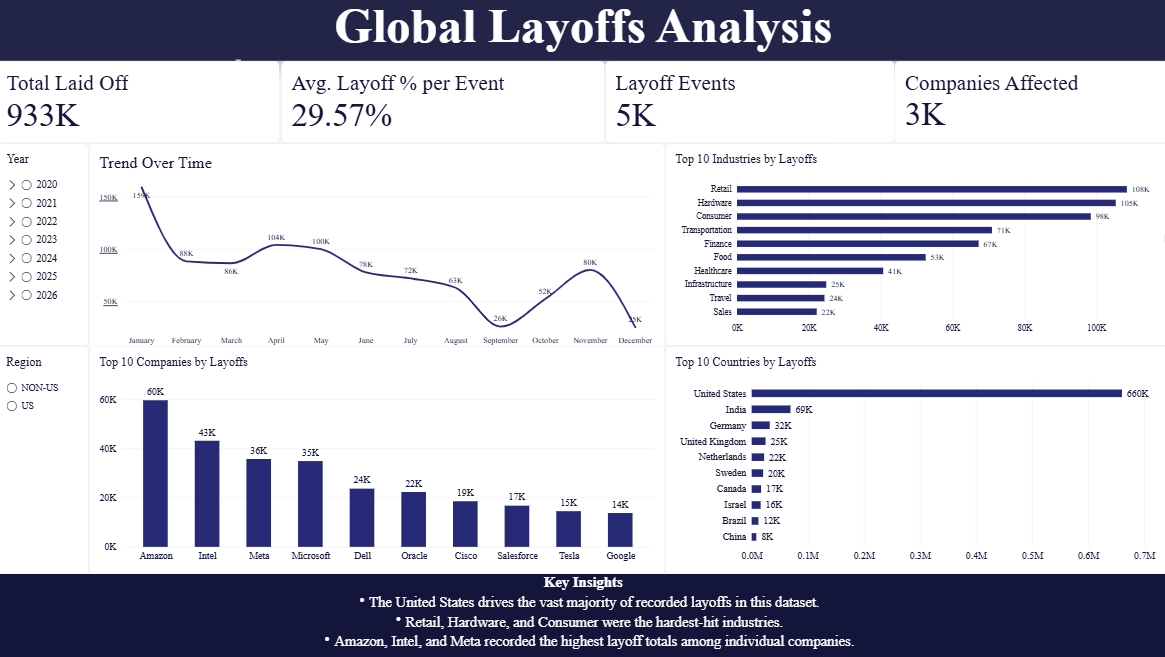

Layout of this report page (visuals, bound fields, positions):
{"tool":"powerbi","page":{"name":"Page 1","canvas":[1920,1080],"ordinal":0},"visuals":[{"type":"textbox","title":"Global Layoffs Analysis","box":[0,0,1919,102.9],"z":0},{"type":"cardVisual","fields":{"Data":["layoffs.Average Percentage Laid Off"]},"box":[465.7,102.9,529.4,134.8],"z":1000},{"type":"cardVisual","fields":{"Data":["layoffs.Total Laid Off"]},"box":[0,102.9,463.2,134.8],"z":2000},{"type":"cardVisual","fields":{"Data":["layoffs.Layoff Events"]},"box":[995.1,102.9,473,134.8],"z":3000},{"type":"cardVisual","fields":{"Data":["layoffs.Companies Affected"]},"box":[1468.1,102.9,451,134.8],"z":4000},{"type":"lineChart","title":"Trend Over Time","fields":{"Category":["layoffs.date.Variation.Date Hierarchy.Month"],"Y":["Sum(layoffs.total_laid_off)"]},"box":[152,237.7,941.1,350.5],"z":5000},{"type":"barChart","title":"Top 10 Industries by Layoffs","fields":{"Category":["layoffs.industry"],"Y":["Sum(layoffs.total_laid_off)"]},"box":[1093.1,237.7,825.9,330.9],"z":6000},{"type":"clusteredColumnChart","title":"Top 10 Companies by Layoffs ","fields":{"Category":["layoffs.company"],"Y":["Sum(layoffs.total_laid_off)"]},"box":[152,568.6,941.1,372.5],"z":7000},{"type":"barChart","title":"Top 10 Countries by Layoffs","fields":{"Category":["layoffs.country"],"Y":["Sum(layoffs.total_laid_off)"]},"box":[1093.1,568.6,825.9,372.5],"z":8000},{"type":"listSlicer","fields":{"Values":["layoffs.Region"]},"box":[0,568.6,152,372.5],"z":9000},{"type":"listSlicer","fields":{"Values":["layoffs.date.Variation.Date Hierarchy.Year","layoffs.date.Variation.Date Hierarchy.Quarter","layoffs.date.Variation.Date Hierarchy.Month","layoffs.date.Variation.Date Hierarchy.Day"]},"box":[0,237.7,152,330.9],"z":10000},{"type":"textbox","box":[100.5,100.5,299,2.5],"z":11000},{"type":"textbox","box":[100.5,387.2,1818.6,12.3],"z":12000},{"type":"textbox","box":[100,100,300,300],"z":14000},{"type":"textbox","box":[0,941.1,1919,139.7],"z":14001}]}

Visuals, with their boxes in screenshot pixels (x1, y1, x2, y2), scaled from the page's 1920x1080 canvas onto the 1165x657 screenshot:
"Global Layoffs Analysis" textbox: <region>0, 0, 1164, 63</region>
cardVisual - layoffs.Average Percentage Laid Off: <region>283, 63, 604, 145</region>
cardVisual - layoffs.Total Laid Off: <region>0, 63, 281, 145</region>
cardVisual - layoffs.Layoff Events: <region>604, 63, 891, 145</region>
cardVisual - layoffs.Companies Affected: <region>891, 63, 1164, 145</region>
"Trend Over Time" lineChart: <region>92, 145, 663, 358</region>
"Top 10 Industries by Layoffs" barChart: <region>663, 145, 1164, 346</region>
"Top 10 Companies by Layoffs " clusteredColumnChart: <region>92, 346, 663, 573</region>
"Top 10 Countries by Layoffs" barChart: <region>663, 346, 1164, 573</region>
listSlicer - layoffs.Region: <region>0, 346, 92, 573</region>
listSlicer - layoffs.date.Variation.Date Hierarchy.Year x layoffs.date.Variation.Date Hierarchy.Quarter: <region>0, 145, 92, 346</region>
textbox: <region>61, 61, 242, 63</region>
textbox: <region>61, 236, 1164, 243</region>
textbox: <region>61, 61, 243, 243</region>
textbox: <region>0, 573, 1164, 656</region>
